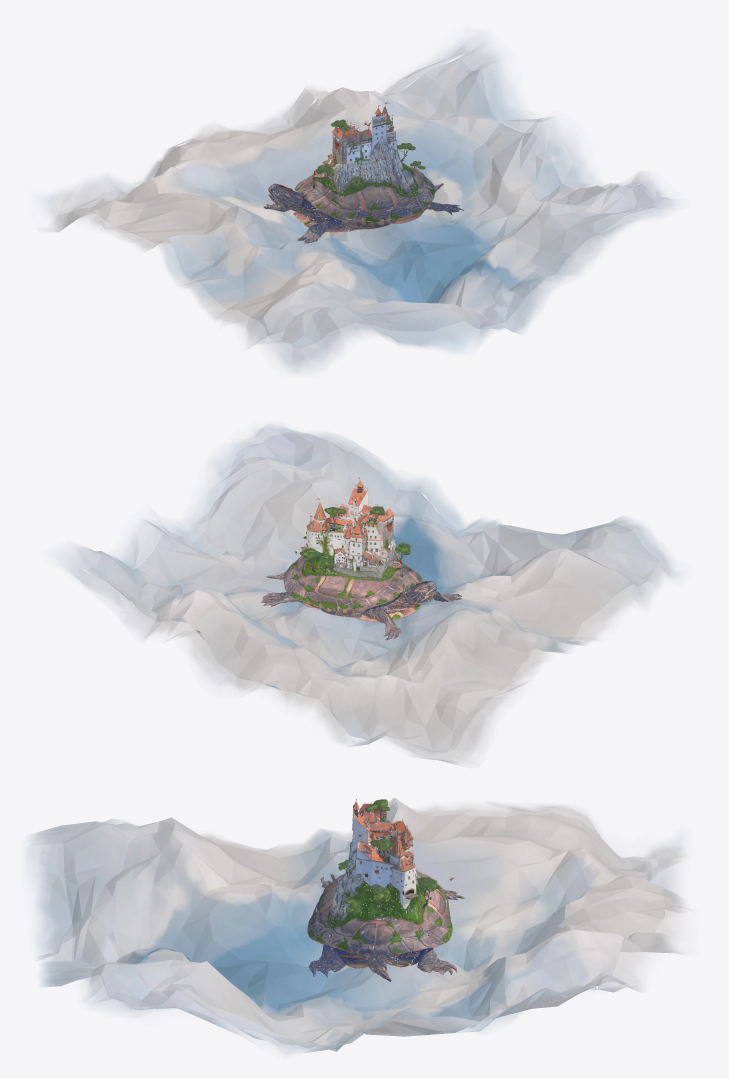
Rendered from floating_castle.glb.
The picture shows the model from 3 angles, top to bottom: view 1: azimuth 30°, elevation 25°; view 2: azimuth 150°, elevation 25°; view 3: azimuth 270°, elevation 25°; orthographic projection. The views are drawn at different scales.
Visible parts, largest first — view 1: CloudsFlat.003, TurtleAndCastle, Outside.003, Outside.001, Outside.002, Outside.004, Attachments; view 2: CloudsFlat.003, TurtleAndCastle, Outside.002, Outside.004, Outside.001, Outside.003, Attachments; view 3: CloudsFlat.003, TurtleAndCastle, Outside.003, Outside.002, Outside.001, Outside.004, Attachments.
Part boxes in pixels (left/top/right/bottom): CloudsFlat.003: left=70, top=58, right=655, bottom=349; TurtleAndCastle: left=263, top=106, right=463, bottom=243; Outside.003: left=291, top=203, right=680, bottom=373; Outside.001: left=459, top=29, right=681, bottom=206; Outside.002: left=35, top=34, right=465, bottom=210; Outside.004: left=40, top=208, right=295, bottom=373; Attachments: left=279, top=102, right=425, bottom=190; CloudsFlat.003: left=87, top=433, right=659, bottom=754; TurtleAndCastle: left=260, top=479, right=461, bottom=640; Outside.002: left=57, top=565, right=450, bottom=761; Outside.004: left=434, top=563, right=683, bottom=767; Outside.001: left=49, top=424, right=280, bottom=570; Outside.003: left=269, top=423, right=684, bottom=574; Attachments: left=293, top=477, right=426, bottom=584; CloudsFlat.003: left=63, top=801, right=664, bottom=1051; TurtleAndCastle: left=307, top=800, right=464, bottom=981; Outside.003: left=25, top=824, right=108, bottom=1008; Outside.002: left=598, top=835, right=692, bottom=992; Outside.001: left=92, top=984, right=629, bottom=1056; Outside.004: left=103, top=798, right=659, bottom=861; Attachments: left=338, top=799, right=454, bottom=914.
Bounding box in the file's own units: 2.86 × 0.9303 × 3.
Materials: 5 (4 with a texture image).
